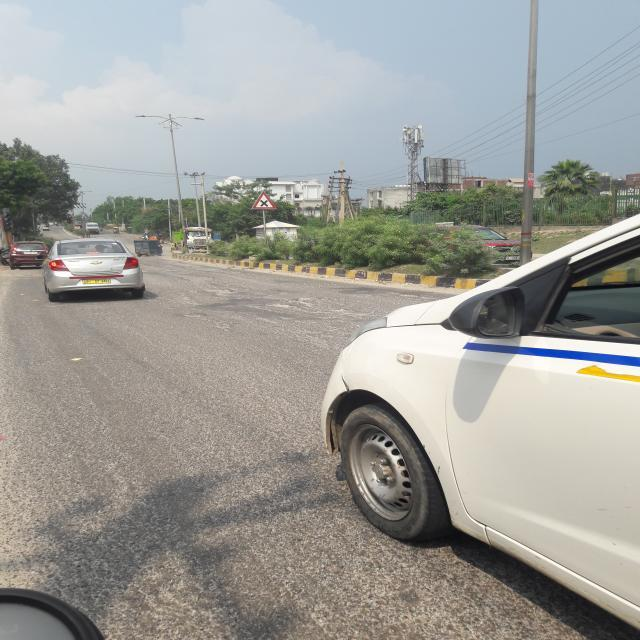cross road: (250, 190, 277, 213)
